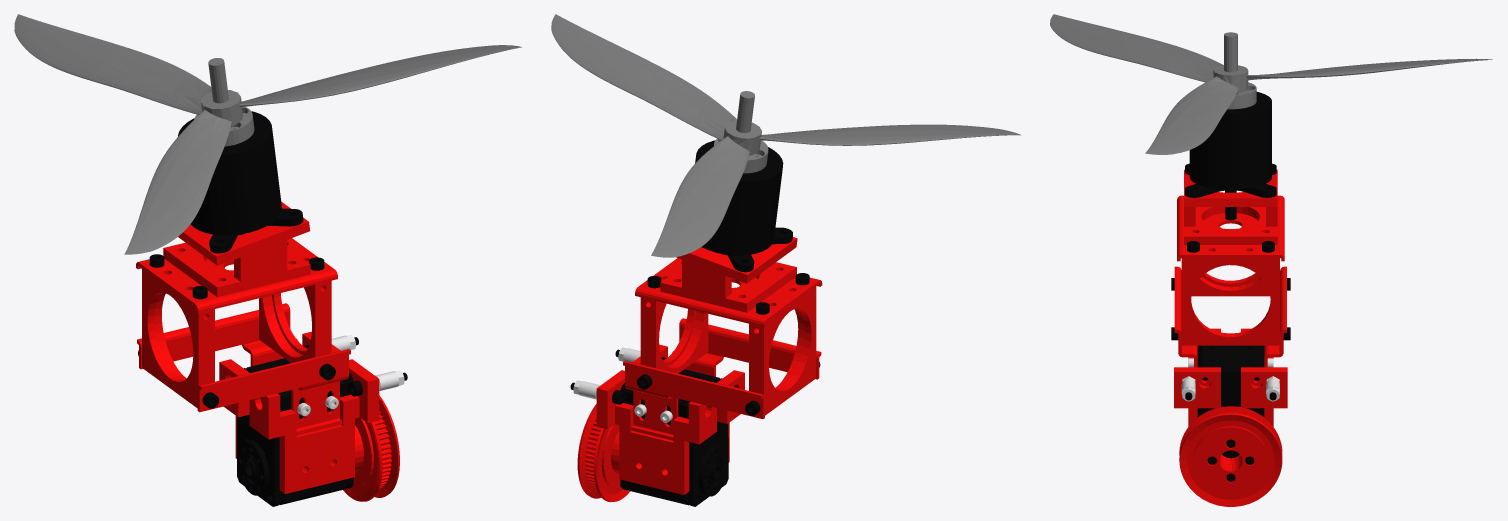
The model's file is link1_gimbal.dae.
The picture shows the model from 3 angles, left to right: view 1: azimuth 30°, elevation 25°; view 2: azimuth 150°, elevation 25°; view 3: azimuth 270°, elevation 25°; orthographic projection. The views are drawn at different scales.
Visible parts, largest first — view 1: link_1_gimbal - gimbal_rotation_base-1 gimbal_servo_with_ho. (×9), link_1_gimbal - tmotor_at2814_with_9inch_prop-1 9inch_prop-1, link_1_gimbal - gimbal_rotation_base-1 gimbal_roll_holder_PL (×2), link_1_gimbal - tmotor_at2814_with_9inch_prop-1 t_motor_at28, link_1_gimbal - motor_mount_link1-1, link_1_gimbal - gimbal_rotation_base-1 gimbal_upper_plate-1, link_1_gimbal - tmotor_at2814_with_9inch_prop-1 t_motor_at2., link_1_gimbal - tmotor_at2814_with_9inch_prop-1 t_motor_at2; view 2: link_1_gimbal - gimbal_rotation_base-1 gimbal_servo_with_ho. (×9), link_1_gimbal - tmotor_at2814_with_9inch_prop-1 9inch_prop-1, link_1_gimbal - gimbal_rotation_base-1 gimbal_roll_holder_PL (×2), link_1_gimbal - motor_mount_link1-1, link_1_gimbal - tmotor_at2814_with_9inch_prop-1 t_motor_at28, link_1_gimbal - gimbal_rotation_base-1 gimbal_upper_plate-1, link_1_gimbal - tmotor_at2814_with_9inch_prop-1 t_motor_at2., link_1_gimbal - tmotor_at2814_with_9inch_prop-1 t_motor_at2; view 3: link_1_gimbal - gimbal_rotation_base-1 gimbal_servo_with_ho. (×7), link_1_gimbal - tmotor_at2814_with_9inch_prop-1 9inch_prop-1, link_1_gimbal - tmotor_at2814_with_9inch_prop-1 t_motor_at28, link_1_gimbal - gimbal_rotation_base-1 gimbal_roll_holder_PL (×2), link_1_gimbal - motor_mount_link1-1, link_1_gimbal - gimbal_rotation_base-1 gimbal_upper_plate-1, link_1_gimbal - tmotor_at2814_with_9inch_prop-1 t_motor_at2., link_1_gimbal - tmotor_at2814_with_9inch_prop-1 t_motor_at2.
Boxes of the visible parts, bbox=[...] form: link_1_gimbal - gimbal_rotation_base-1 gimbal_servo_with_ho. (×9): bbox=[137, 303, 399, 504]; link_1_gimbal - tmotor_at2814_with_9inch_prop-1 9inch_prop-1: bbox=[14, 14, 521, 254]; link_1_gimbal - gimbal_rotation_base-1 gimbal_roll_holder_PL (×2): bbox=[142, 269, 331, 408]; link_1_gimbal - tmotor_at2814_with_9inch_prop-1 t_motor_at28: bbox=[178, 111, 281, 235]; link_1_gimbal - motor_mount_link1-1: bbox=[163, 202, 310, 297]; link_1_gimbal - gimbal_rotation_base-1 gimbal_upper_plate-1: bbox=[136, 238, 337, 312]; link_1_gimbal - tmotor_at2814_with_9inch_prop-1 t_motor_at2.: bbox=[194, 58, 254, 146]; link_1_gimbal - tmotor_at2814_with_9inch_prop-1 t_motor_at2: bbox=[209, 208, 303, 253]; link_1_gimbal - gimbal_rotation_base-1 gimbal_servo_with_ho. (×9): bbox=[577, 318, 821, 505]; link_1_gimbal - tmotor_at2814_with_9inch_prop-1 9inch_prop-1: bbox=[551, 14, 1021, 257]; link_1_gimbal - gimbal_rotation_base-1 gimbal_roll_holder_PL (×2): bbox=[640, 287, 816, 415]; link_1_gimbal - motor_mount_link1-1: bbox=[660, 237, 797, 312]; link_1_gimbal - tmotor_at2814_with_9inch_prop-1 t_motor_at28: bbox=[695, 140, 783, 255]; link_1_gimbal - gimbal_rotation_base-1 gimbal_upper_plate-1: bbox=[635, 258, 822, 327]; link_1_gimbal - tmotor_at2814_with_9inch_prop-1 t_motor_at2.: bbox=[714, 91, 768, 173]; link_1_gimbal - tmotor_at2814_with_9inch_prop-1 t_motor_at2: bbox=[727, 227, 792, 272]; link_1_gimbal - gimbal_rotation_base-1 gimbal_servo_with_ho. (×7): bbox=[1174, 266, 1287, 506]; link_1_gimbal - tmotor_at2814_with_9inch_prop-1 9inch_prop-1: bbox=[1050, 14, 1492, 154]; link_1_gimbal - tmotor_at2814_with_9inch_prop-1 t_motor_at28: bbox=[1189, 92, 1271, 220]; link_1_gimbal - gimbal_rotation_base-1 gimbal_roll_holder_PL (×2): bbox=[1181, 258, 1279, 345]; link_1_gimbal - motor_mount_link1-1: bbox=[1184, 169, 1277, 244]; link_1_gimbal - gimbal_rotation_base-1 gimbal_upper_plate-1: bbox=[1177, 195, 1284, 261]; link_1_gimbal - tmotor_at2814_with_9inch_prop-1 t_motor_at2.: bbox=[1224, 32, 1256, 109]; link_1_gimbal - tmotor_at2814_with_9inch_prop-1 t_motor_at2: bbox=[1185, 163, 1276, 197].
Size of the model in its own units: 0.1931 by 0.1896 by 0.1924.
